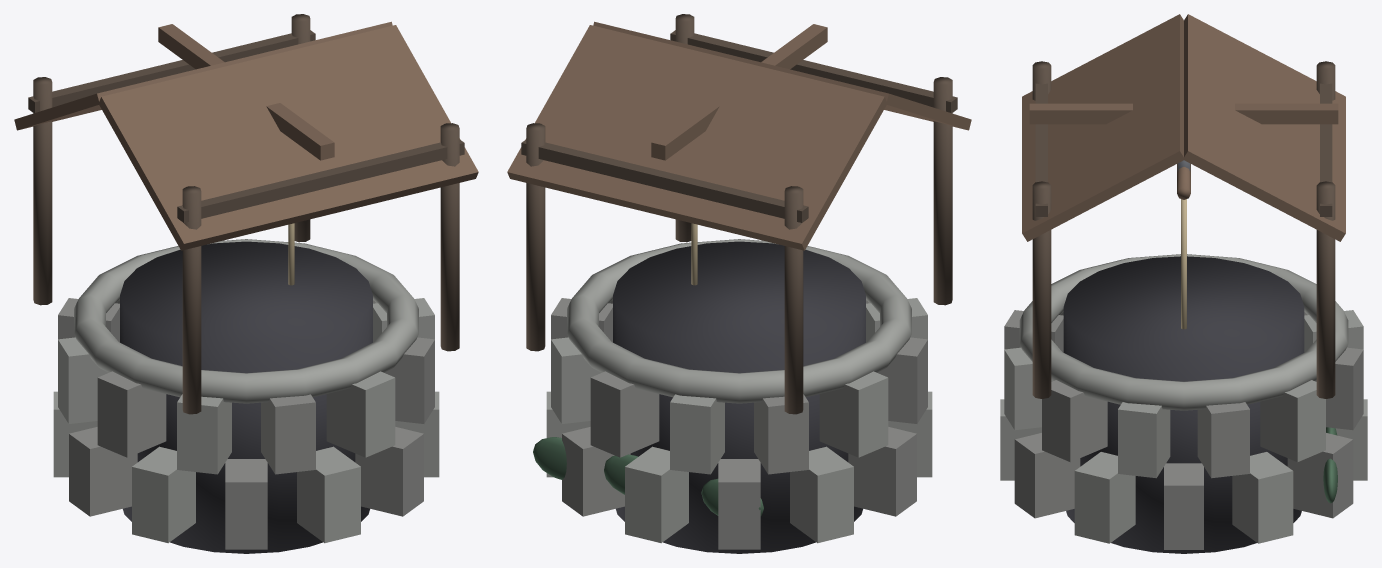
File: prop_furui_ido.glb
3 views of the same model, side by side, from view 1: azimuth 30°, elevation 25°; view 2: azimuth 150°, elevation 25°; view 3: azimuth 270°, elevation 25° (orthographic). The views are drawn at different scales.
Parts seen in each view (by area): view 1: furui_ido; view 2: furui_ido; view 3: furui_ido.
Boxes of the visible parts, box(x1,y1,x2,y2) form: furui_ido: box(14, 14, 478, 553); furui_ido: box(507, 14, 971, 553); furui_ido: box(1000, 14, 1367, 553).
Size of the model in its own units: 2.38 by 3.01 by 2.38.
